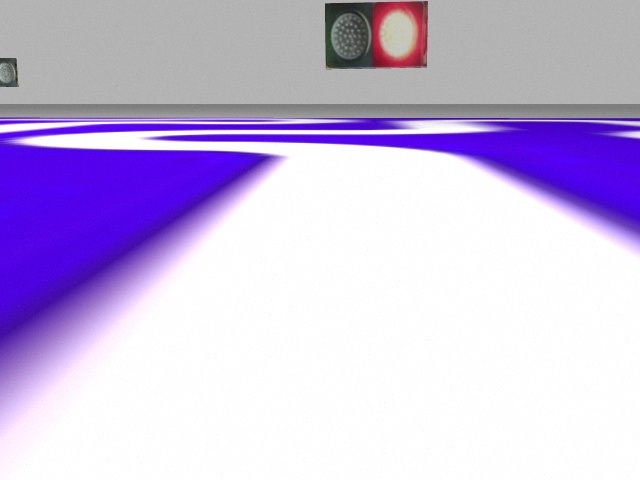red: (371, 2, 427, 66)
